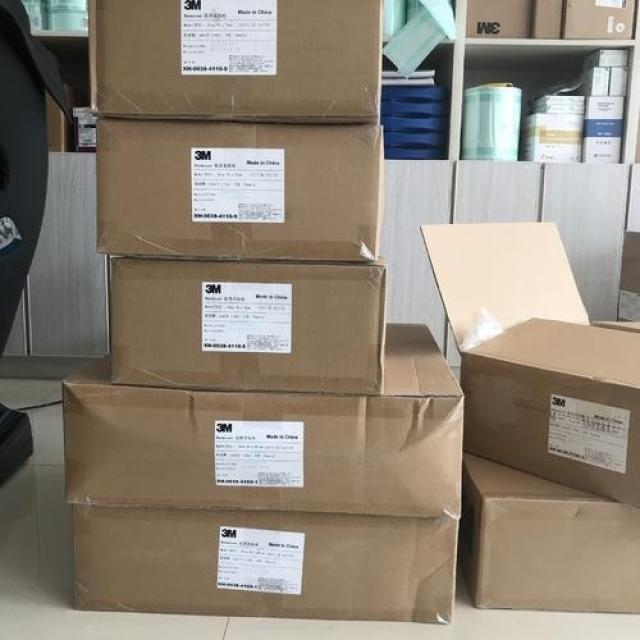box: (61, 321, 466, 517), (421, 222, 639, 507), (70, 505, 459, 625), (95, 118, 383, 262), (109, 259, 384, 392), (87, 1, 380, 124), (457, 449, 639, 614), (582, 93, 627, 161), (520, 114, 585, 161), (564, 2, 637, 37), (466, 1, 532, 37), (568, 66, 629, 97), (531, 1, 565, 37), (532, 94, 588, 115), (583, 51, 630, 70)
